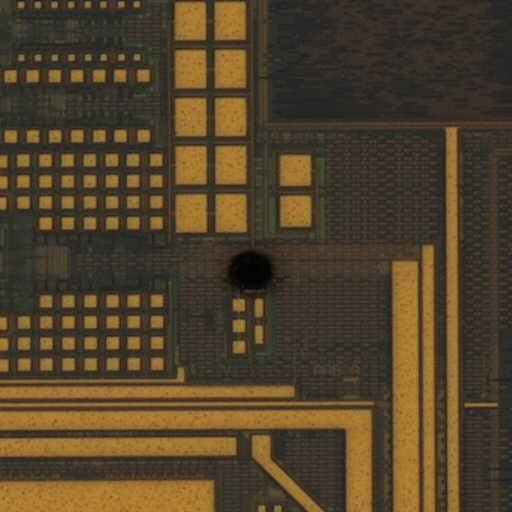PIQ PARTICLE: (220, 242, 280, 302)
